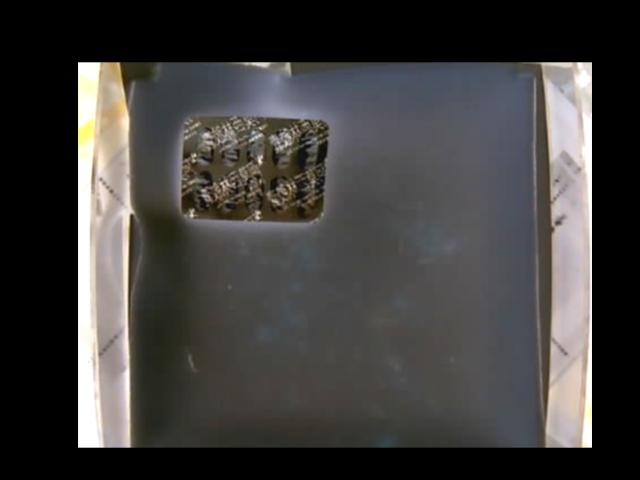Medicine: (178, 113, 330, 221)
